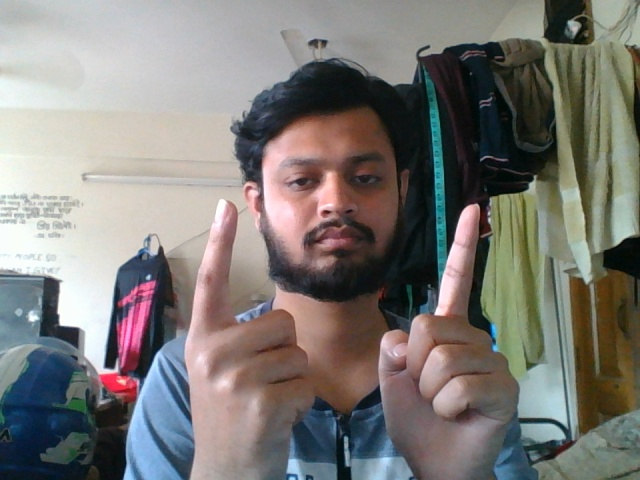ishara: (171, 195, 535, 478)
